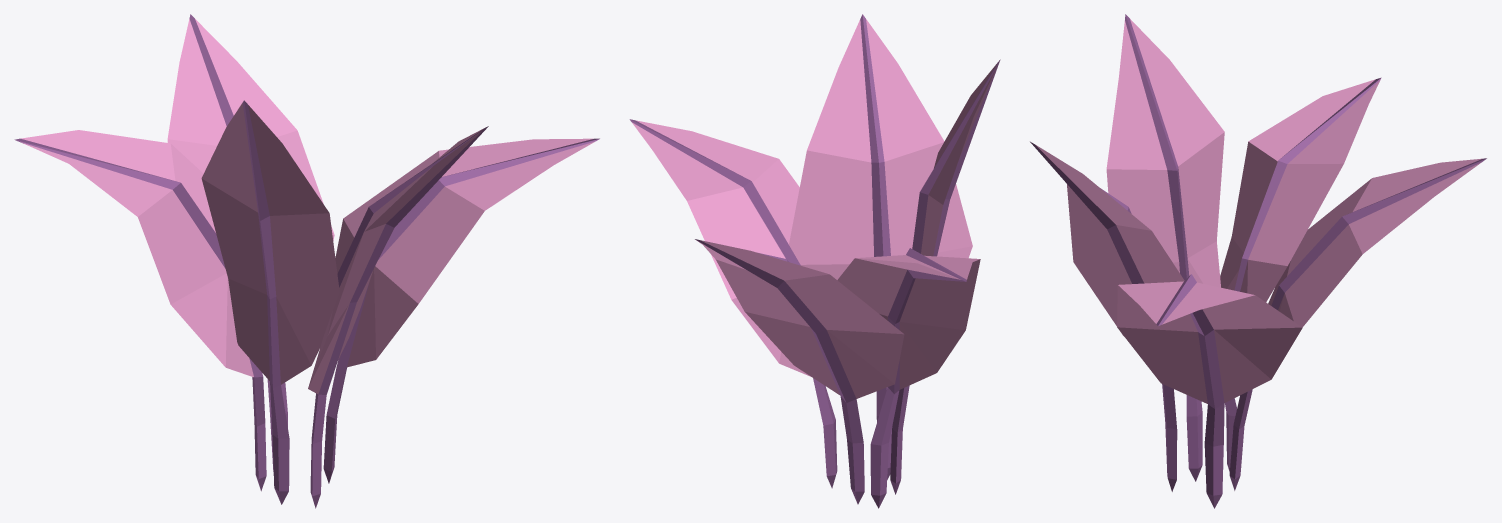
The model's file is Gras_03_Var_02.fbx.
3 views of the same model, side by side, from view 1: azimuth 30°, elevation 25°; view 2: azimuth 150°, elevation 25°; view 3: azimuth 270°, elevation 25° (orthographic). The views are drawn at different scales.
Parts seen in each view (by area): view 1: Gras_03_Var_02; view 2: Gras_03_Var_02; view 3: Gras_03_Var_02.
Part boxes in pixels (x1=…): Gras_03_Var_02: x1=14, y1=14, x2=599, y2=508; Gras_03_Var_02: x1=629, y1=14, x2=1000, y2=508; Gras_03_Var_02: x1=1030, y1=14, x2=1486, y2=508.
Bounding box in the file's own units: 0.2047 × 0.2136 × 0.2337.
